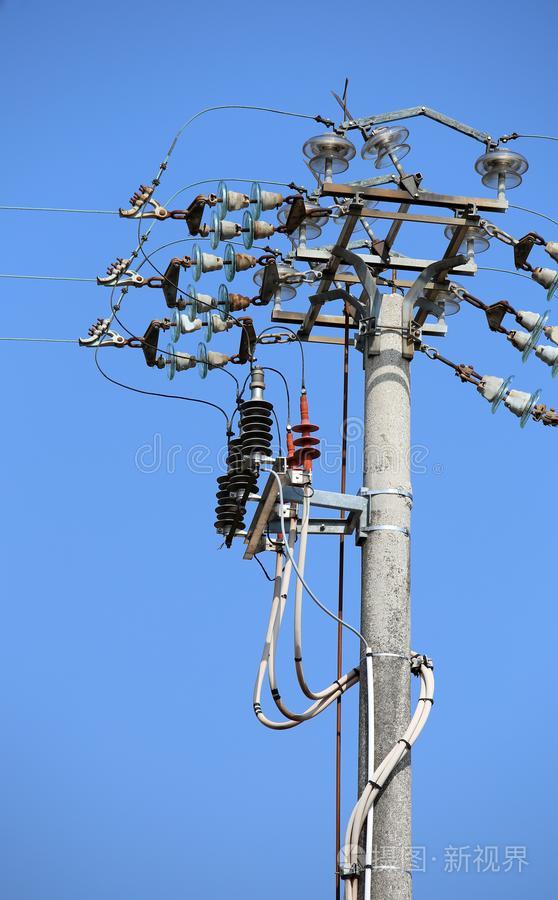insulator: (486, 375, 541, 428), (236, 396, 277, 457), (359, 121, 410, 170), (302, 132, 356, 178), (471, 148, 528, 189), (203, 212, 261, 249), (271, 199, 326, 237), (158, 343, 214, 380), (211, 473, 244, 533), (186, 247, 238, 284), (181, 284, 234, 320), (250, 267, 306, 301), (210, 179, 265, 213), (446, 221, 500, 254), (161, 311, 217, 342), (225, 440, 255, 497), (292, 419, 322, 466)
